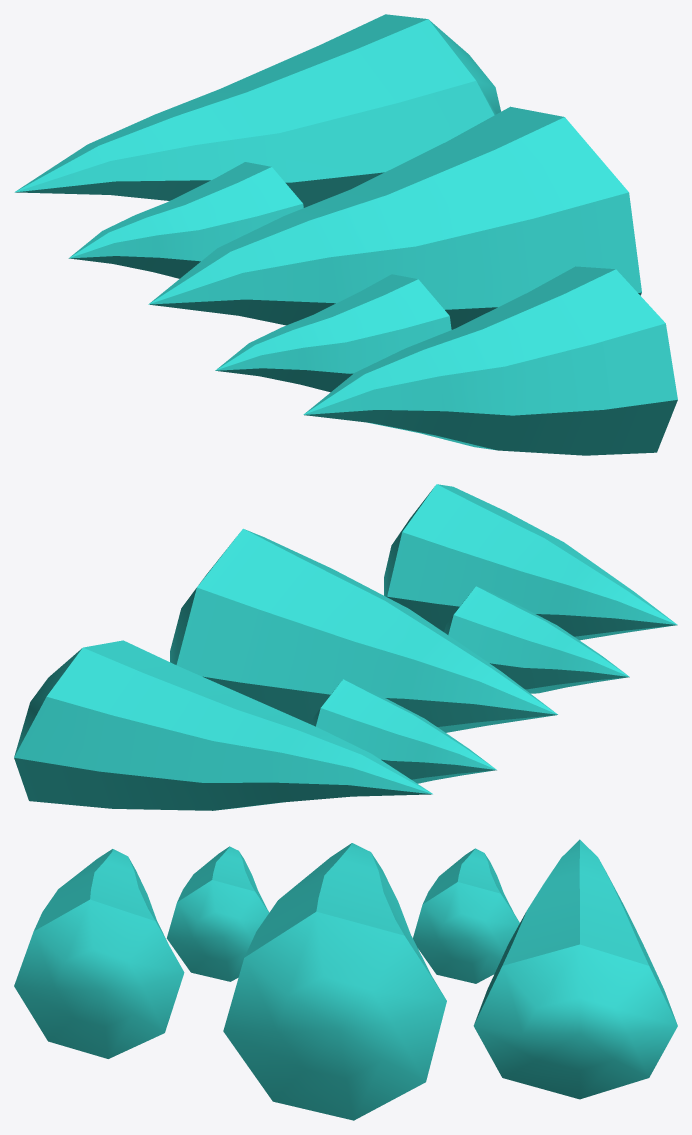
The model's file is icicle_low.fbx.
3 views of the same model, one above another, from view 1: azimuth 30°, elevation 25°; view 2: azimuth 150°, elevation 25°; view 3: azimuth 270°, elevation 25° (orthographic). The views are drawn at different scales.
Parts seen in each view (by area): view 1: Icicles_Low; view 2: Icicles_Low; view 3: Icicles_Low.
Boxes of the visible parts, bbox=[...] form: Icicles_Low: bbox=[14, 14, 677, 455]; Icicles_Low: bbox=[14, 484, 677, 810]; Icicles_Low: bbox=[14, 839, 677, 1120].
Bounding box in the file's own units: 3.51 × 1.77 × 5.3.
